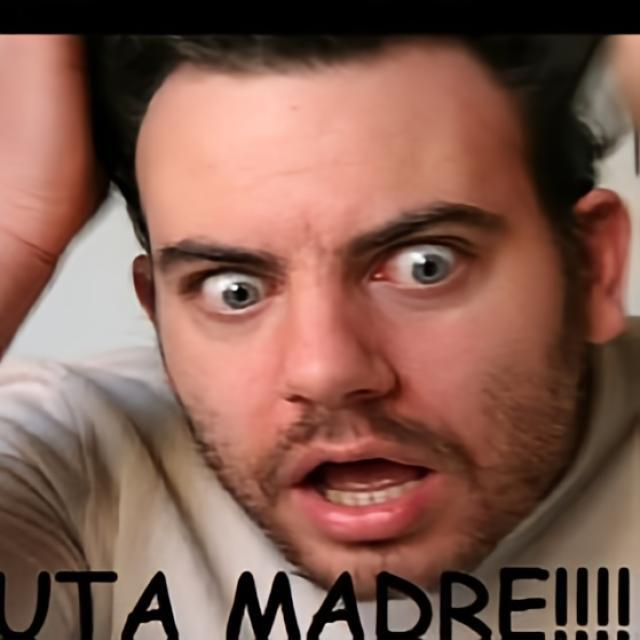fear: (134, 41, 584, 603)
